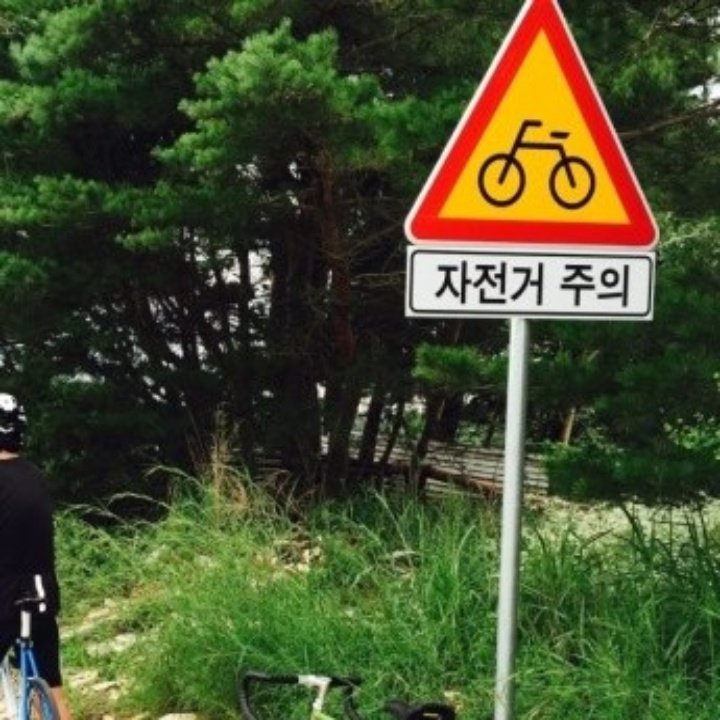bicycle: (410, 1, 659, 242)
